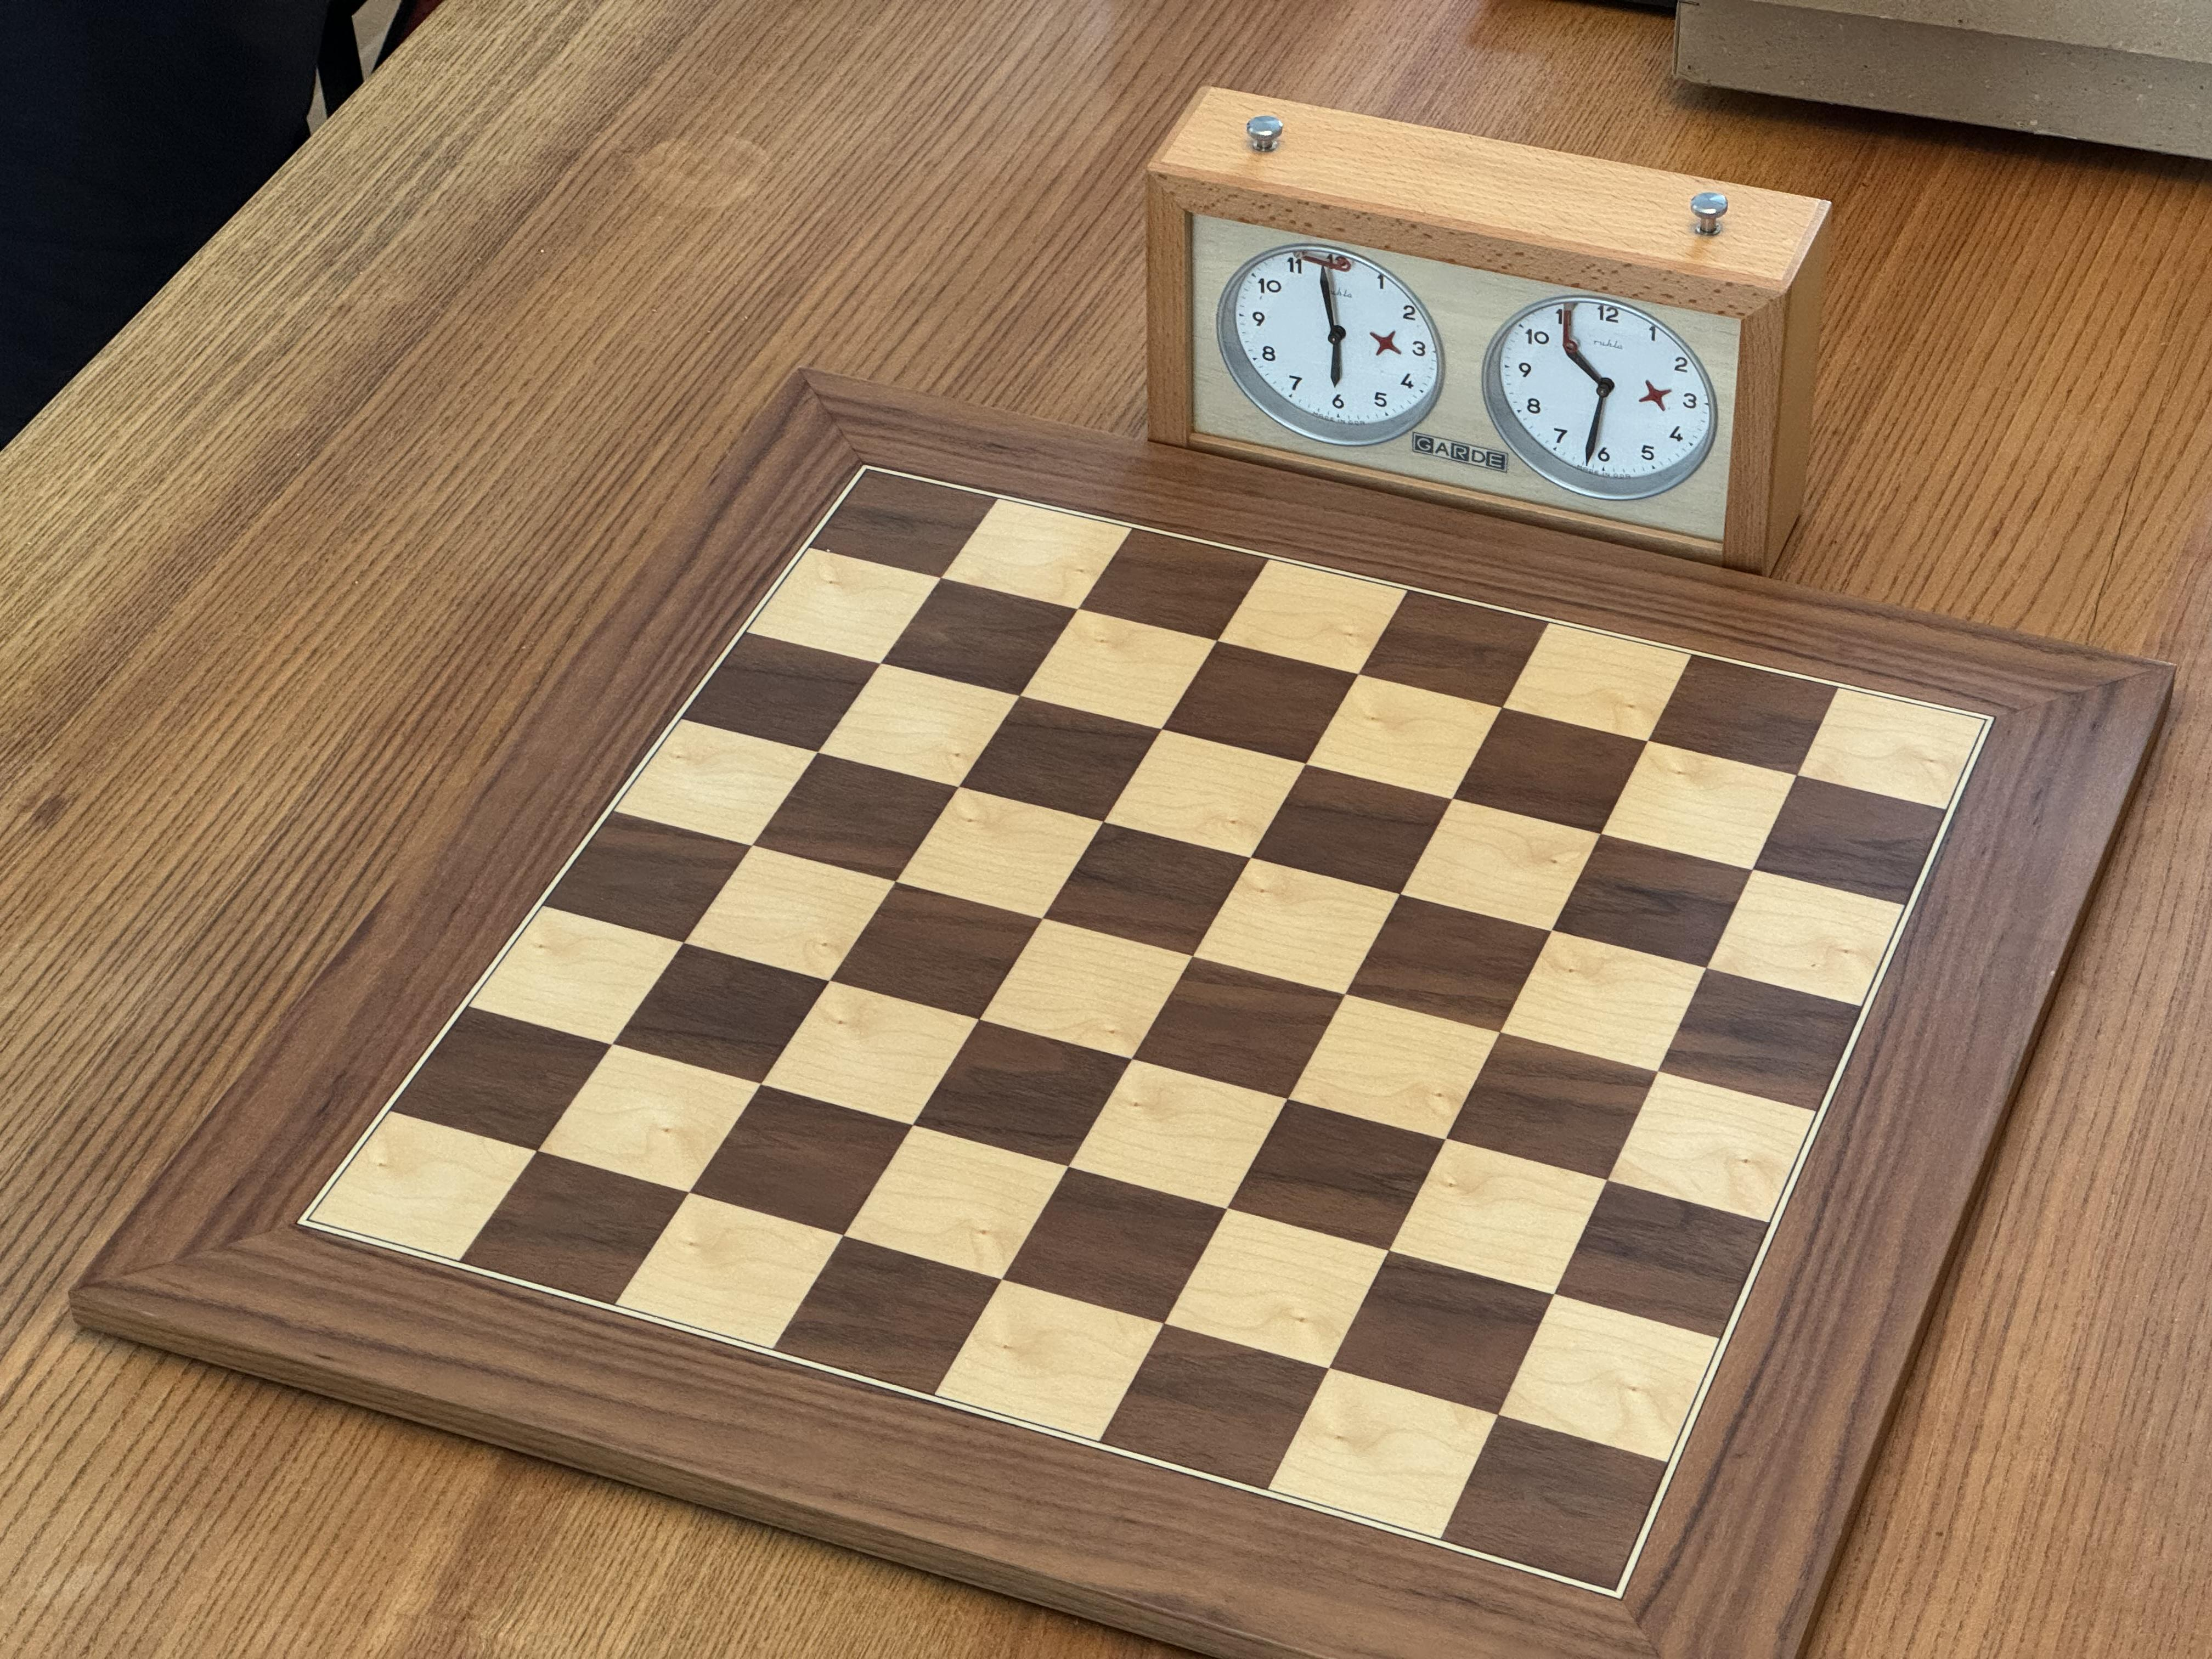corner A: (212, 1140, 381, 1305)
corner B: (1529, 1520, 1702, 1659)
corner C: (1905, 640, 2069, 802)
